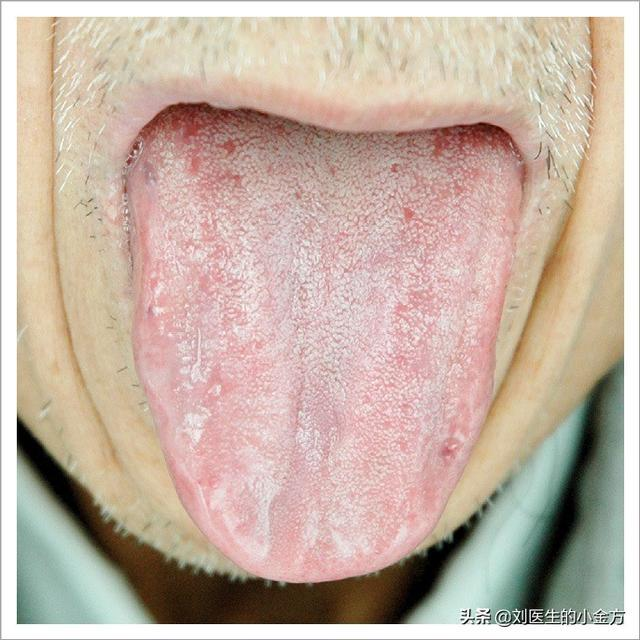tongue: (113, 119, 520, 589)
